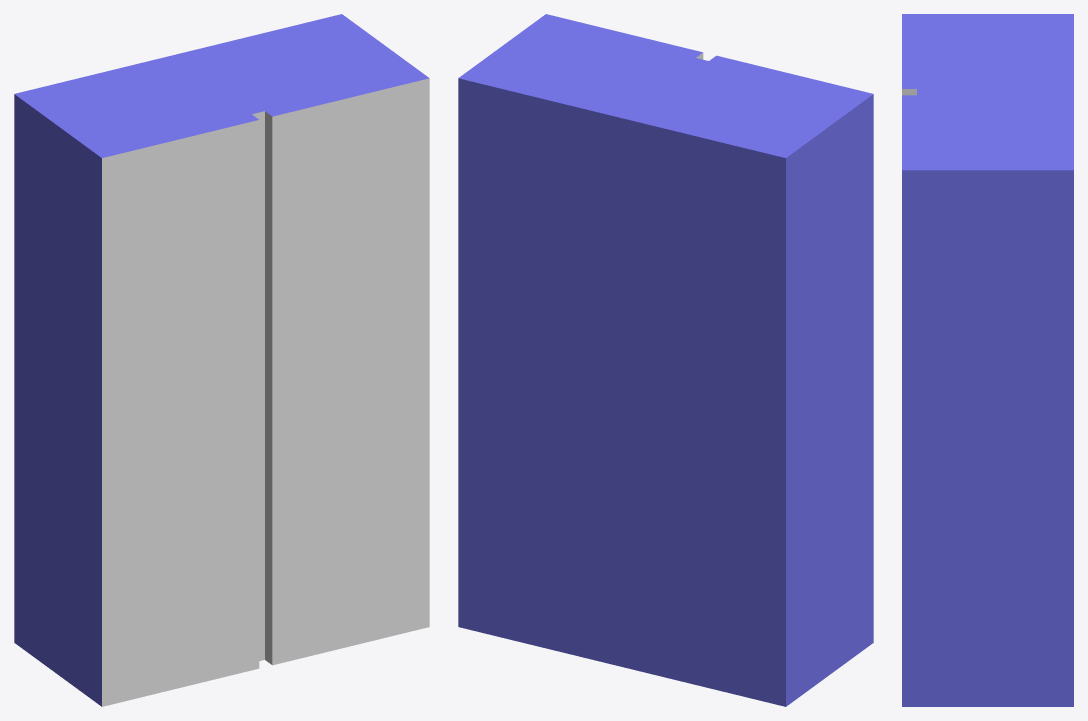
File: elec.armoire.7'.glb
3 views of the same model, side by side, from view 1: azimuth 30°, elevation 25°; view 2: azimuth 150°, elevation 25°; view 3: azimuth 270°, elevation 25° (orthographic). The views are drawn at different scales.
Parts seen in each view (by area): view 1: imagetostl_mesh6, imagetostl_mesh4, imagetostl_mesh2, imagetostl_mesh3, imagetostl_mesh8, imagetostl_mesh7; view 2: imagetostl_mesh1, imagetostl_mesh2, imagetostl_mesh3; view 3: imagetostl_mesh5, imagetostl_mesh3.
Part boxes in pixels (<box>): imagetostl_mesh6: <box>272,78,429,665</box>; imagetostl_mesh4: <box>102,120,259,706</box>; imagetostl_mesh2: <box>14,94,101,706</box>; imagetostl_mesh3: <box>15,14,429,157</box>; imagetostl_mesh8: <box>265,111,272,664</box>; imagetostl_mesh7: <box>252,111,264,660</box>; imagetostl_mesh1: <box>458,78,785,706</box>; imagetostl_mesh2: <box>786,94,873,706</box>; imagetostl_mesh3: <box>458,14,872,157</box>; imagetostl_mesh5: <box>902,170,1073,706</box>; imagetostl_mesh3: <box>902,14,1073,170</box>.
Bounding box in the file's own units: 0.9843 × 1.57 × 0.4567.
